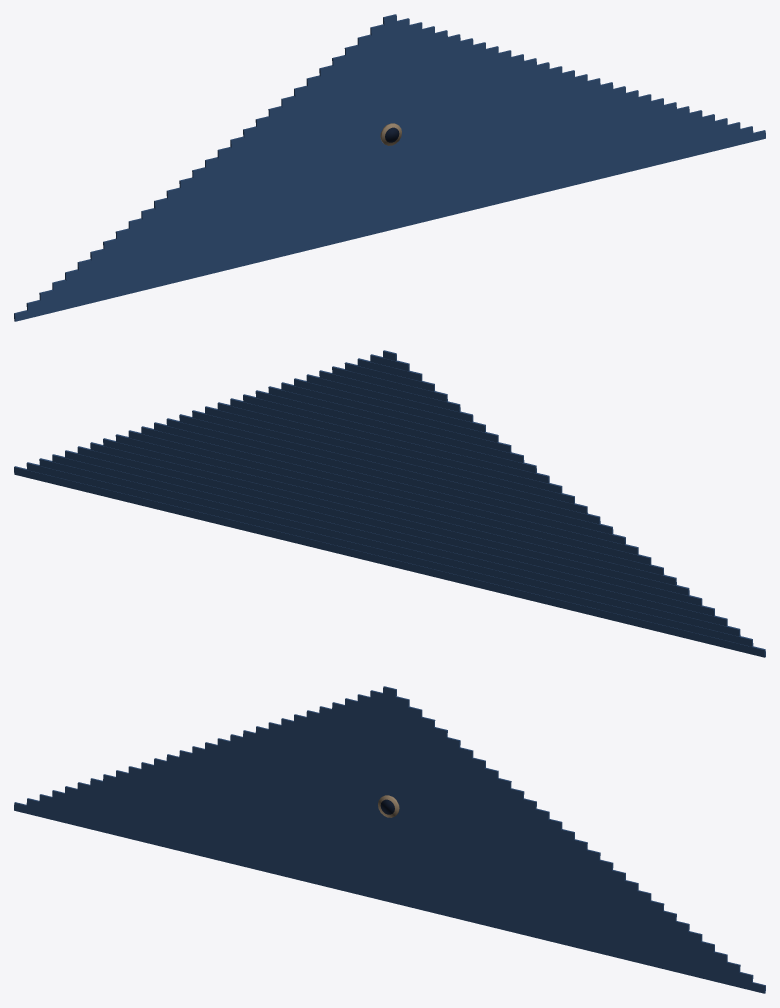
File: kit_clapboard_gable_w12.glb
The picture shows the model from 3 angles, top to bottom: view 1: azimuth 30°, elevation 25°; view 2: azimuth 150°, elevation 25°; view 3: azimuth 330°, elevation 25°; orthographic projection.
Visible parts, largest first — view 1: kit_clapboard_gable_w12; view 2: kit_clapboard_gable_w12; view 3: kit_clapboard_gable_w12.
Boxes of the visible parts, x1,y1,x2,y2 form: kit_clapboard_gable_w12: (14, 14, 765, 321); kit_clapboard_gable_w12: (14, 350, 765, 657); kit_clapboard_gable_w12: (14, 686, 765, 993).
Size of the model in its own units: 11.8 by 3.21 by 0.082.
